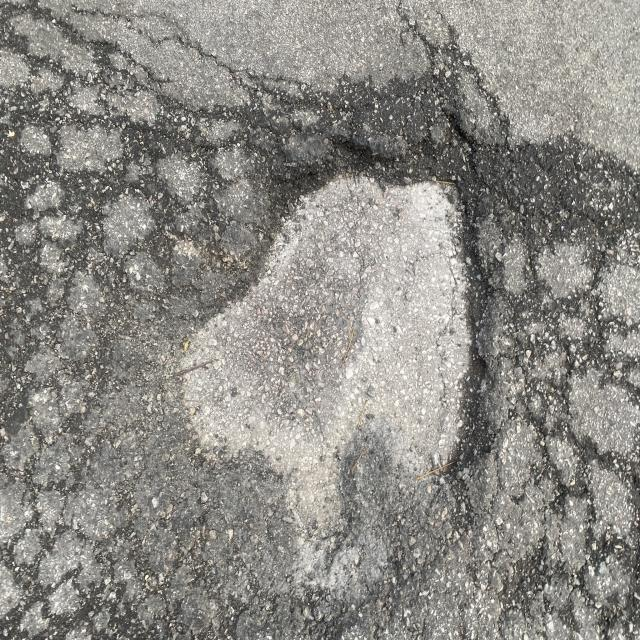pothole: (234, 70, 566, 568)
